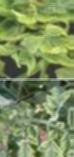Tomato leaf yellow virus: (5, 0, 74, 23), (22, 38, 72, 61), (40, 23, 66, 40), (62, 134, 72, 156), (46, 95, 58, 113), (30, 127, 40, 146), (67, 108, 74, 131)
